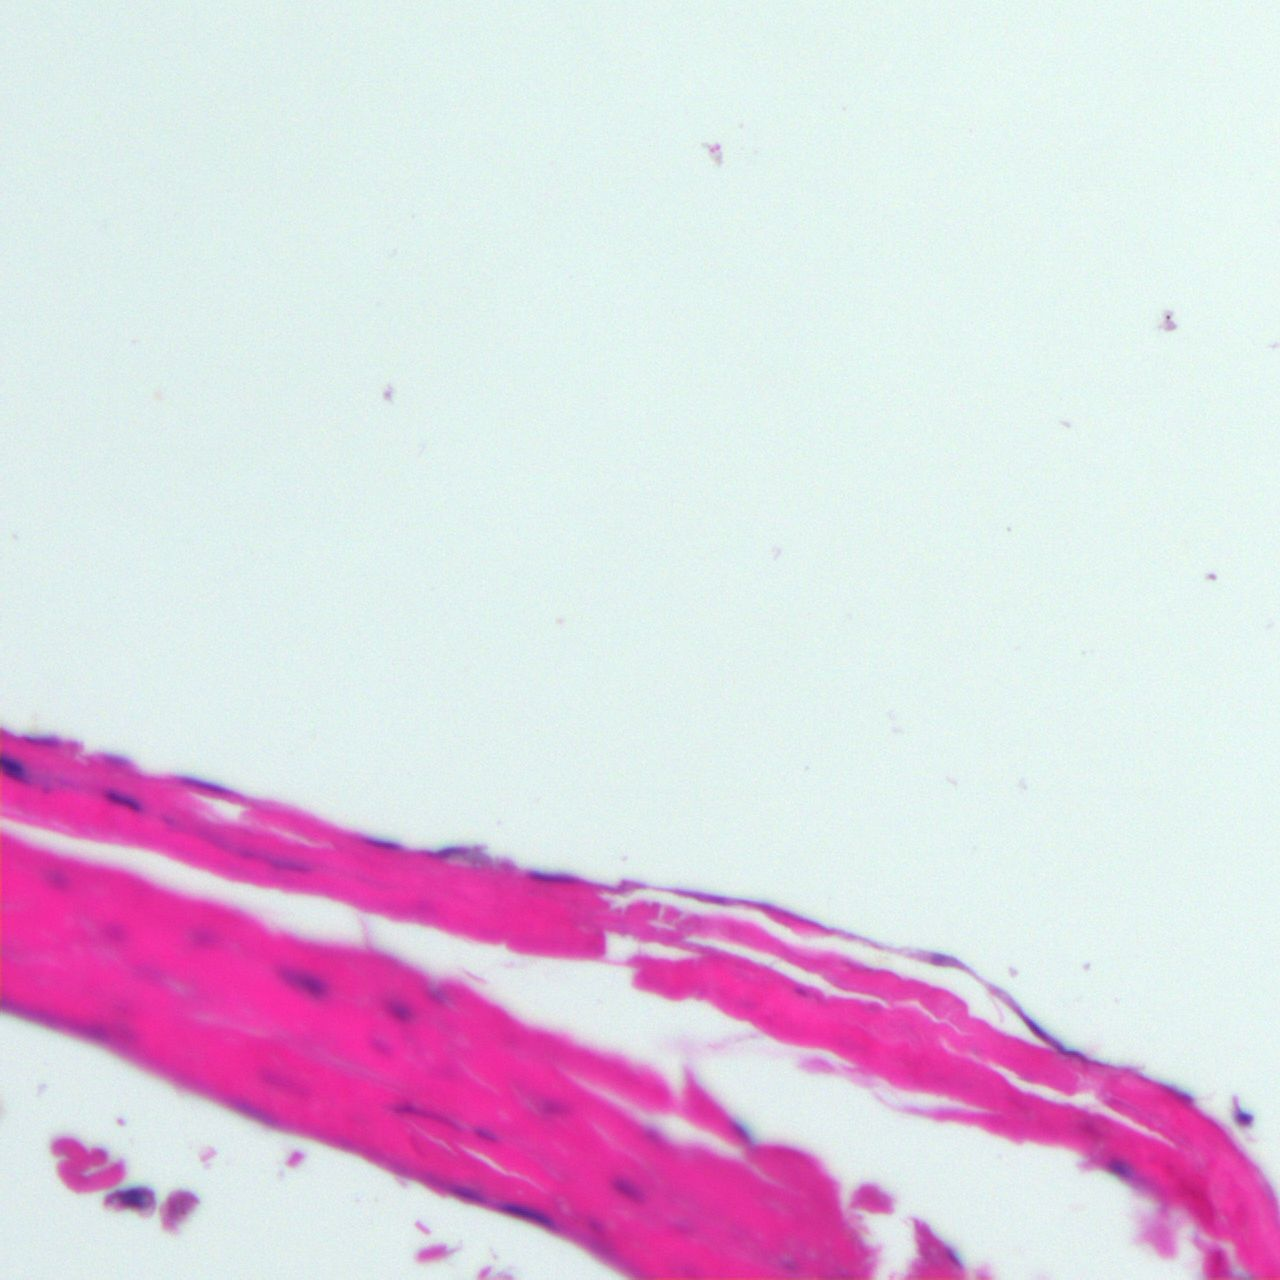nucleus-HE: (499, 1194, 559, 1232), (178, 769, 246, 802), (610, 1171, 648, 1211), (278, 964, 325, 996), (100, 784, 147, 817), (522, 867, 580, 888), (383, 998, 416, 1021), (1109, 1157, 1133, 1178), (367, 837, 402, 851)
